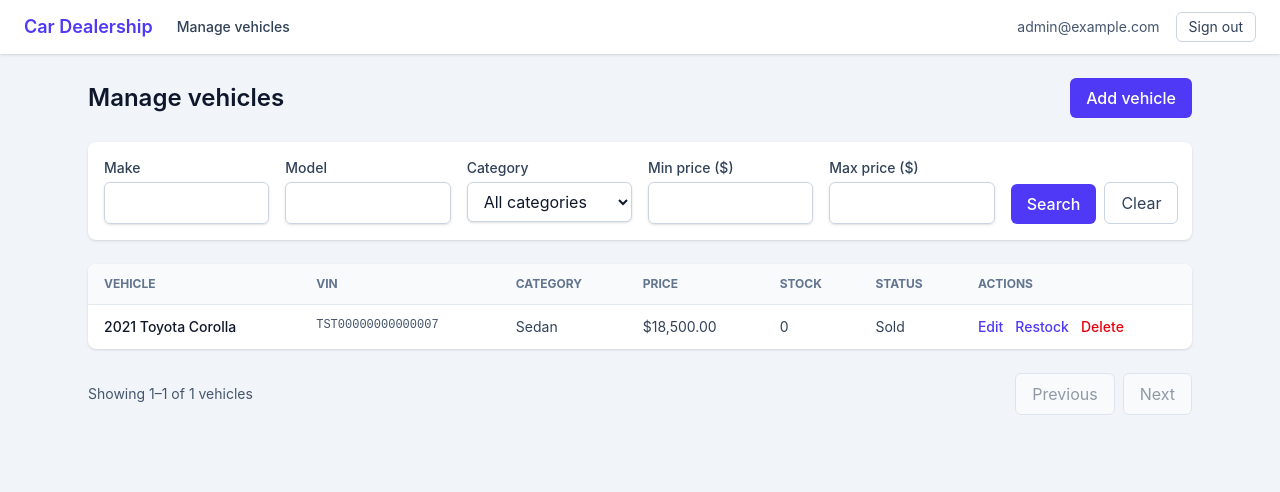
it: restocking from the admin list › shows a sold-out vehicle as available again after restocking it
The image size is (1280, 492).
Click the button "Restock" at point(1042, 327), box [1015,317,1069,337]
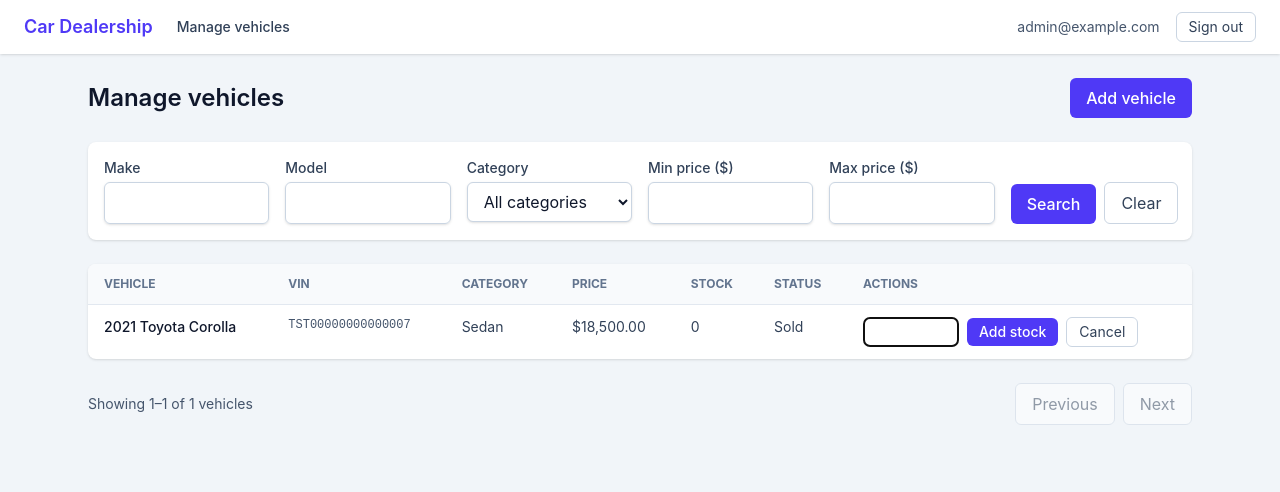
Expected: the text "Sold" is shown, [758,304,847,359]
Type "2" into the field named "Quantity to add to 2021 Toyota Corolla" at point(911, 332), box [863,317,959,347]
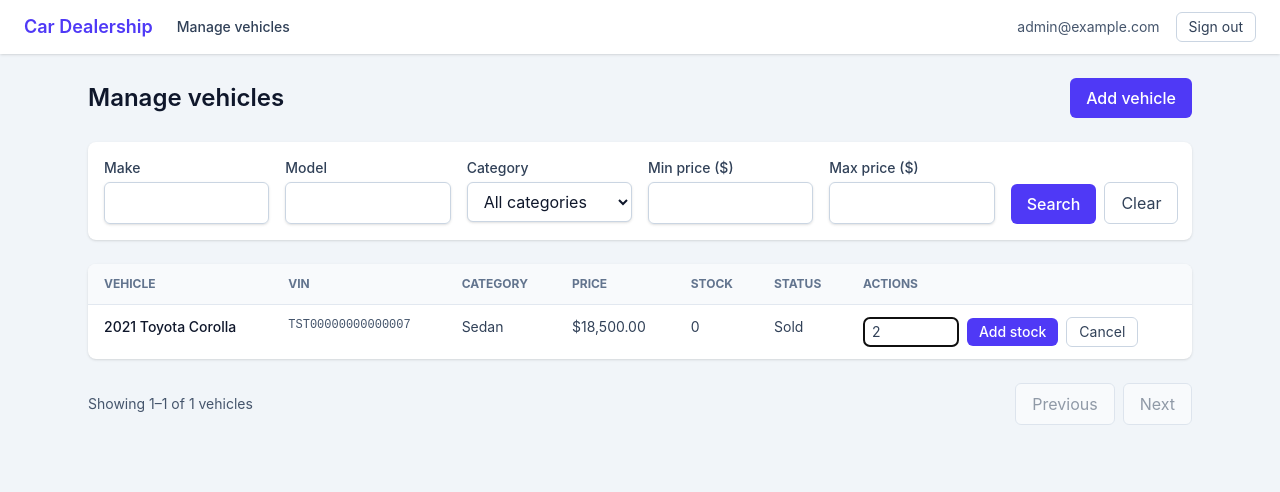
Click the button "Add stock" at point(1013, 332), box [967,318,1058,346]
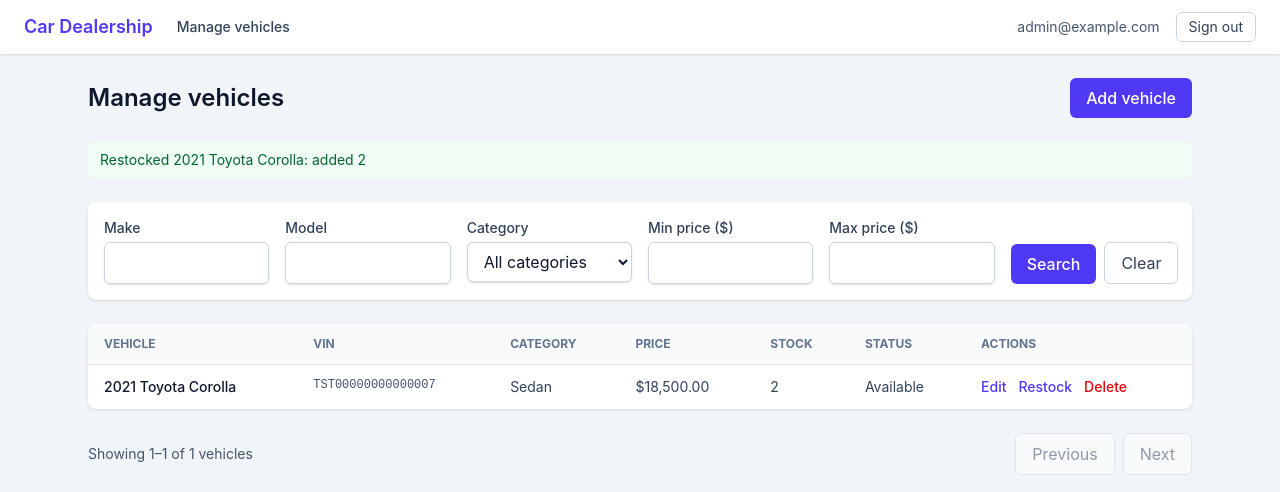
Expected: the text "Available" is shown, [849,364,965,409]
